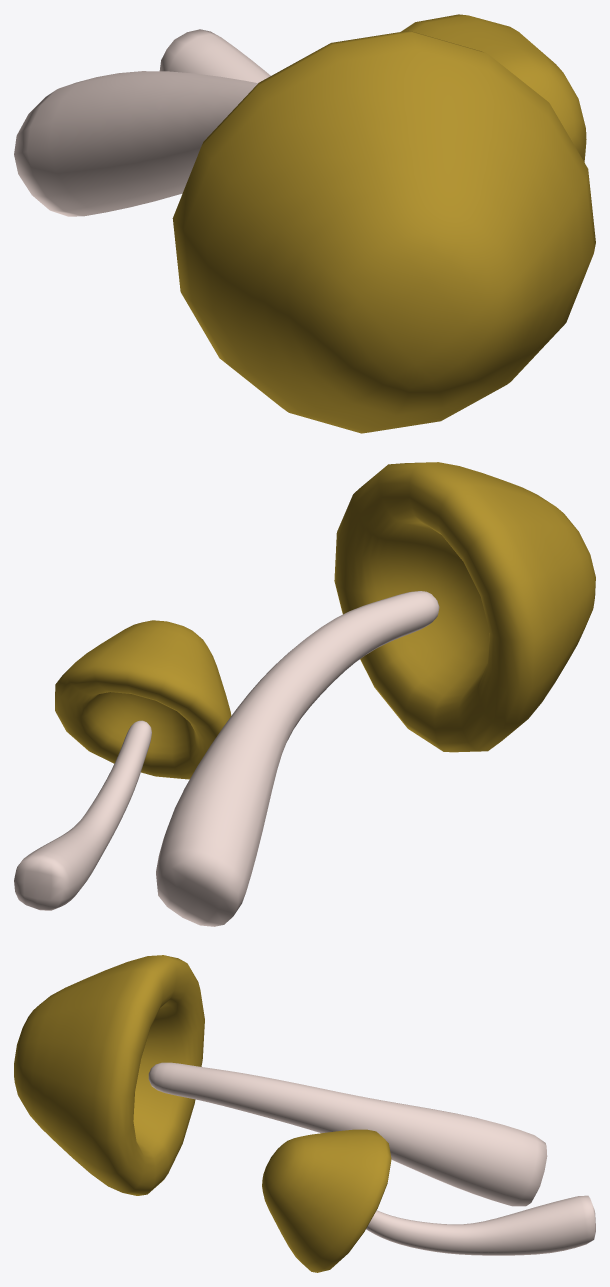
Rendered from market-mashrooms2.fbx.
3 views of the same model, one above another, from view 1: azimuth 30°, elevation 25°; view 2: azimuth 150°, elevation 25°; view 3: azimuth 270°, elevation 25° (orthographic). The views are drawn at different scales.
Parts seen in each view (by area): view 1: Cube.155; view 2: Cube.155; view 3: Cube.155.
Boxes of the visible parts, x1,y1,x2,y2 form: Cube.155: (14,14,595,433); Cube.155: (14,462,595,926); Cube.155: (14,955,595,1272).
Size of the model in its own units: 60.74 by 44.48 by 98.15.
